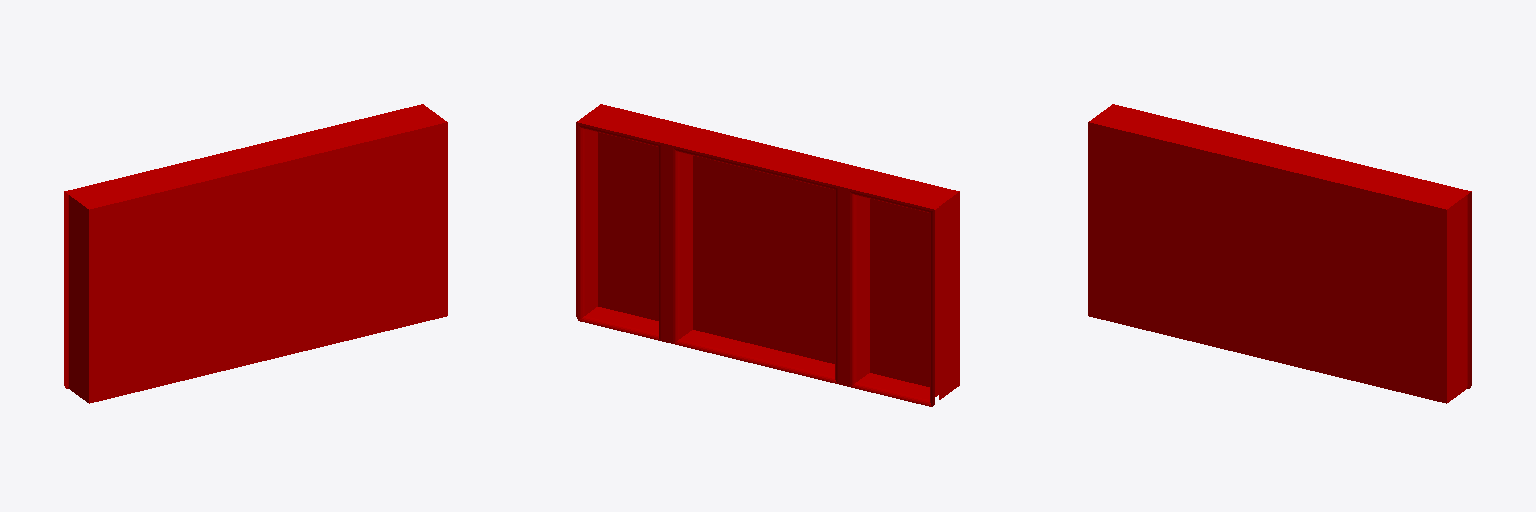
The model's file is SpeakeasyWoodBarWall.obj.
3 views of the same model, side by side, from view 1: azimuth 30°, elevation 25°; view 2: azimuth 150°, elevation 25°; view 3: azimuth 330°, elevation 25° (orthographic).
Visible parts, largest first — view 1: Plane.019_Plane.000; view 2: Plane.019_Plane.000; view 3: Plane.019_Plane.000.
Boxes of the visible parts, x1=… form: Plane.019_Plane.000: x1=64, y1=104, x2=447, y2=403; Plane.019_Plane.000: x1=576, y1=104, x2=959, y2=406; Plane.019_Plane.000: x1=1088, y1=104, x2=1471, y2=403.
Bounding box in the file's own units: 7.61 × 4.02 × 0.9129.